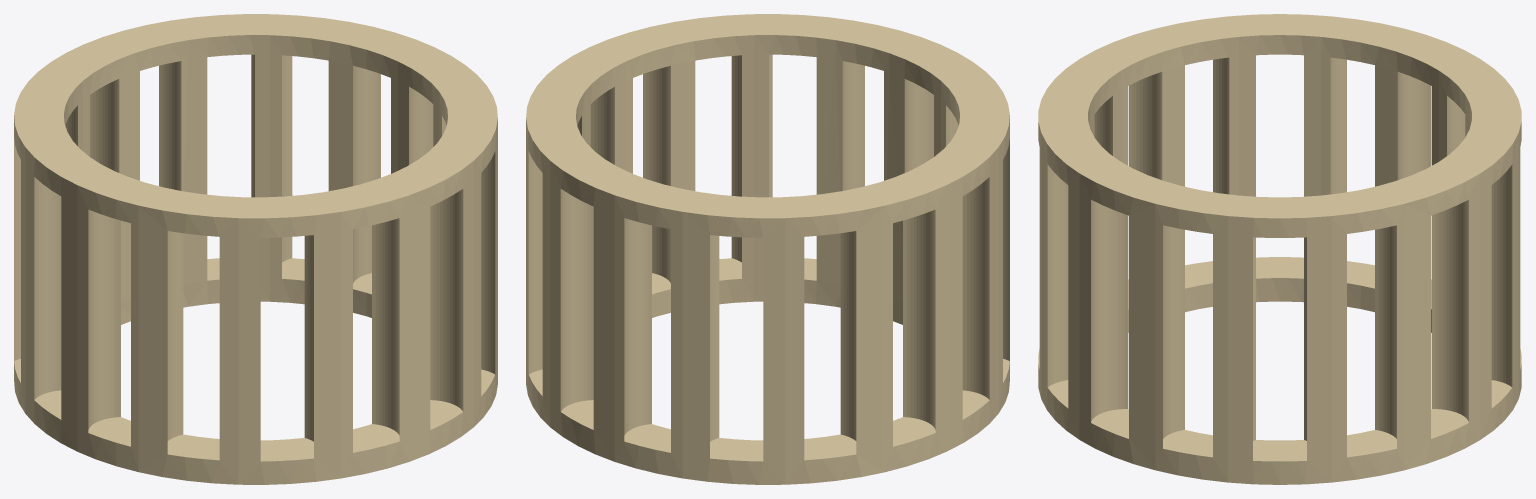
The model's file is pilot-bearing-cage.glb.
3 views of the same model, side by side, from view 1: azimuth 30°, elevation 25°; view 2: azimuth 150°, elevation 25°; view 3: azimuth 270°, elevation 25° (orthographic).
Parts seen in each view (by area): view 1: world; view 2: world; view 3: world.
Boxes of the visible parts, x1,y1,x2,y2 form: world: [14, 14, 497, 484]; world: [526, 14, 1009, 484]; world: [1038, 14, 1521, 484].
Size of the model in its own units: 0.0224 by 0.0136 by 0.0224.
